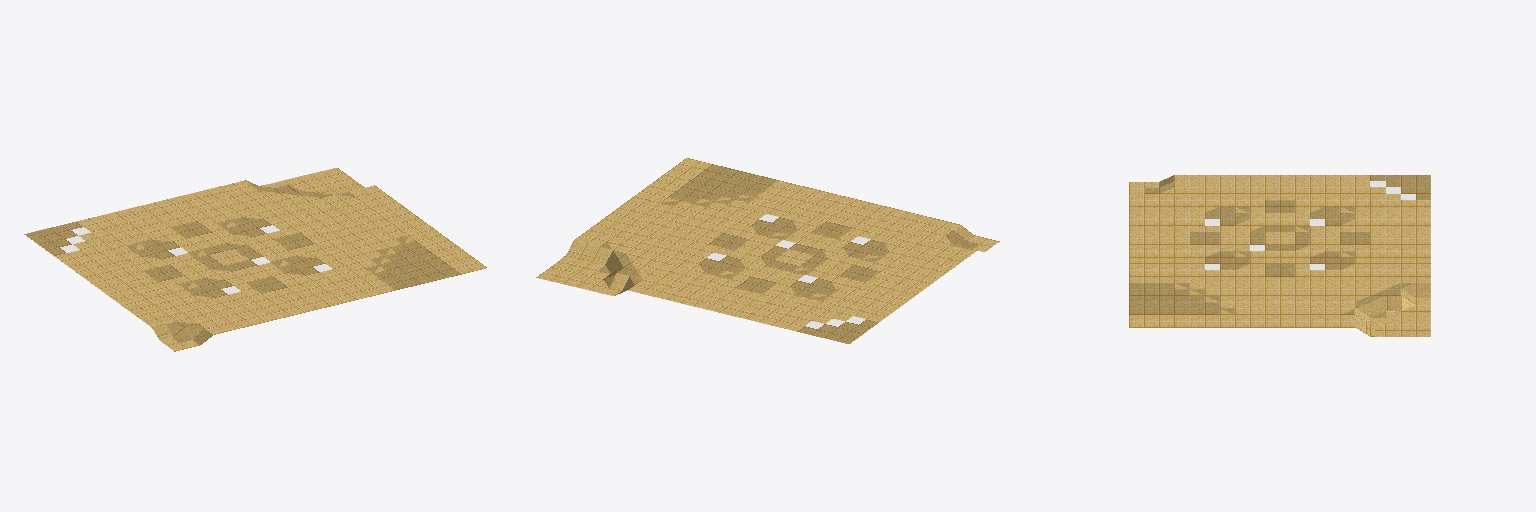
3 views of the same model, side by side, from view 1: azimuth 30°, elevation 25°; view 2: azimuth 150°, elevation 25°; view 3: azimuth 270°, elevation 25° (orthographic).
Visible parts, largest first — view 1: FloorSide_1; view 2: FloorSide_1; view 3: FloorSide_1.
Boxes of the visible parts, box(x1,y1,x2,y2) form: FloorSide_1: box(24, 168, 486, 351); FloorSide_1: box(536, 158, 999, 343); FloorSide_1: box(1129, 175, 1430, 336).
Size of the model in its own units: 24 by 0.7107 by 20.
10 materials, 9 textured.